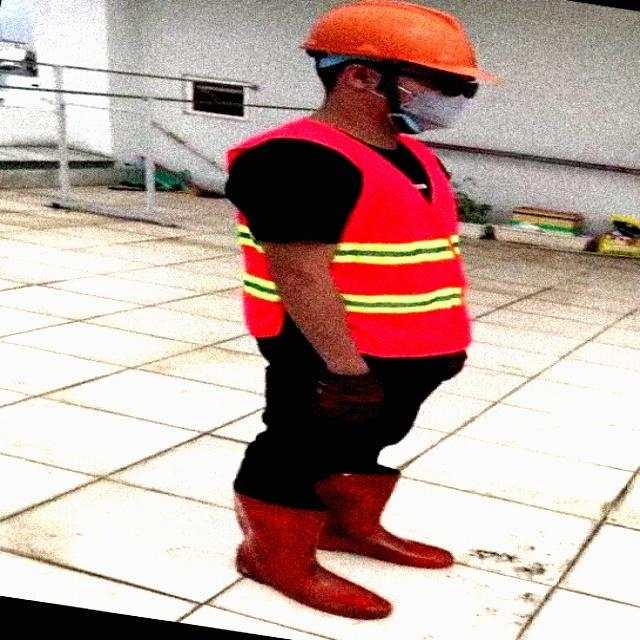helmet: (298, 3, 520, 80)
safety_vest: (214, 116, 492, 364)
